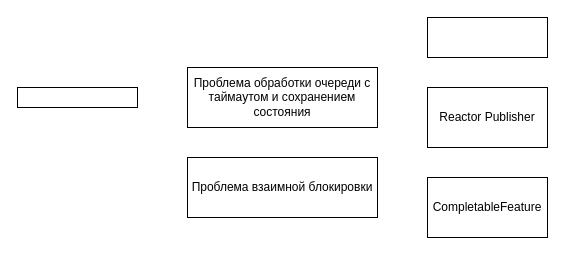
Image size: 565x255. Some labels were removed from this diagram. The box of each missing label's shape, as (x1, y1, x2, y2) in pixels:
Double Check: (426, 16, 548, 58)
Алгоритмы: (16, 86, 138, 108)
